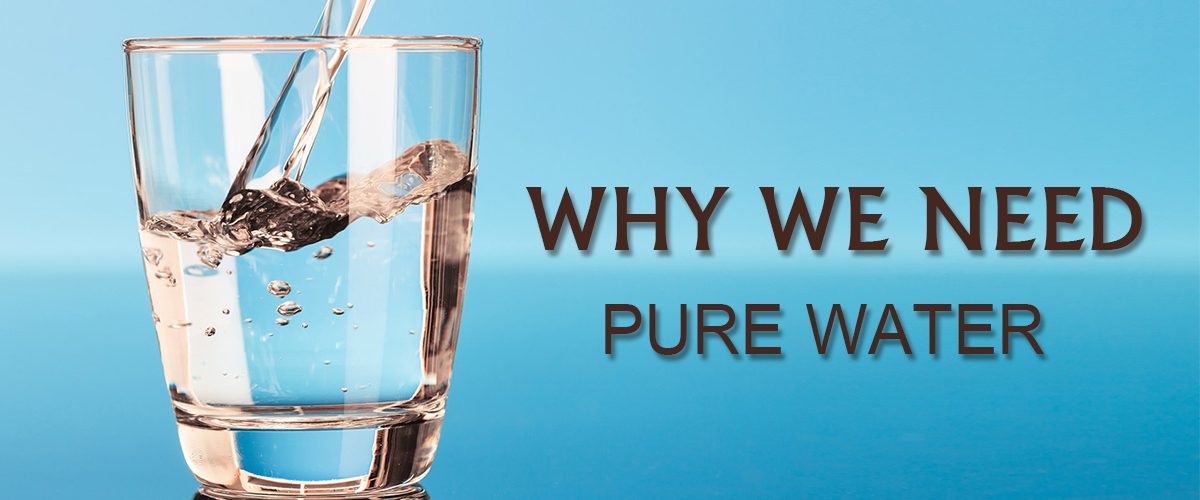glass of water: (145, 37, 451, 480)
